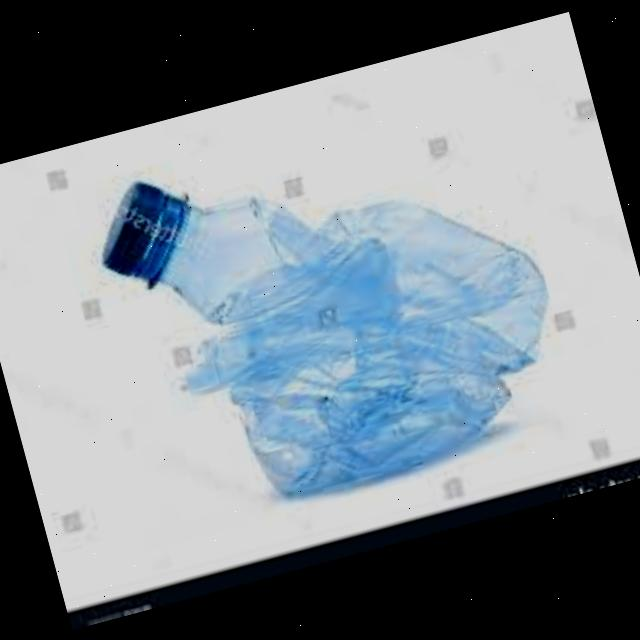trash: (74, 74, 585, 544)
